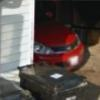cars: (34, 9, 86, 71)
